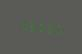four: (18, 18, 26, 32)
three: (27, 18, 35, 33), (45, 20, 53, 35)
zero: (36, 19, 44, 34), (54, 21, 62, 35)
